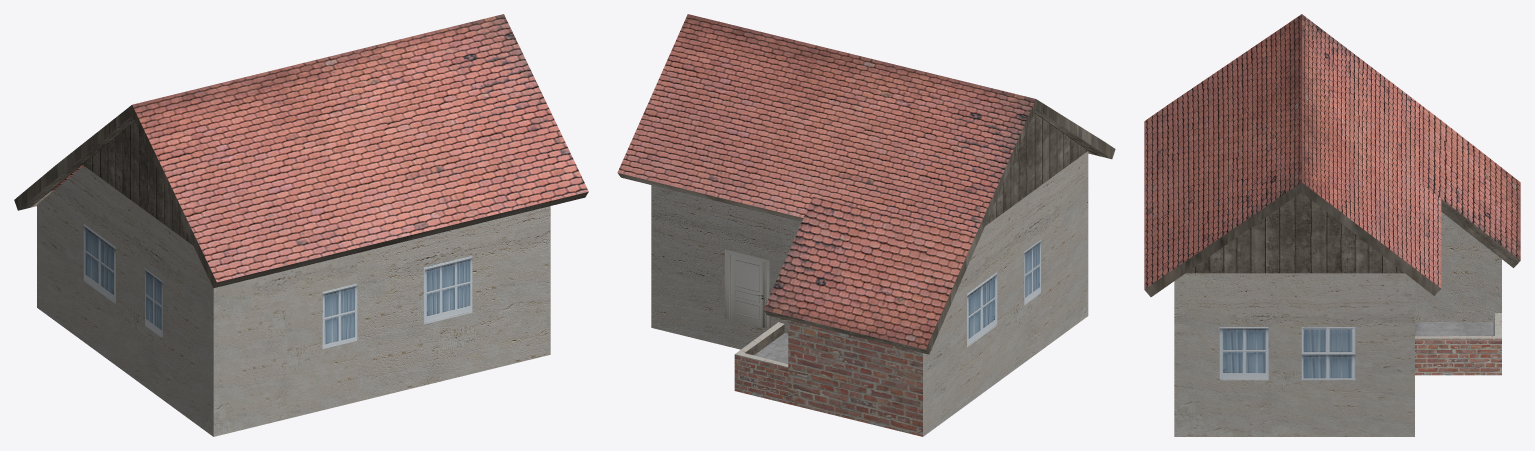
Rendered from sb_house_old_mj.fbx.
3 views of the same model, side by side, from view 1: azimuth 30°, elevation 25°; view 2: azimuth 150°, elevation 25°; view 3: azimuth 270°, elevation 25° (orthographic). The views are drawn at different scales.
Parts seen in each view (by area): view 1: sb_house_old; view 2: sb_house_old; view 3: sb_house_old.
Part boxes in pixels (bbox=[...]): sb_house_old: bbox=[14, 14, 588, 436]; sb_house_old: bbox=[617, 14, 1115, 436]; sb_house_old: bbox=[1144, 14, 1520, 436].
Size of the model in its own units: 13.24 by 9.7 by 12.51.
